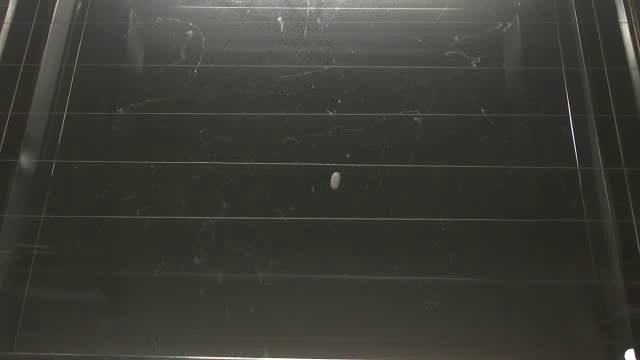Alfa: (328, 166, 344, 194)
